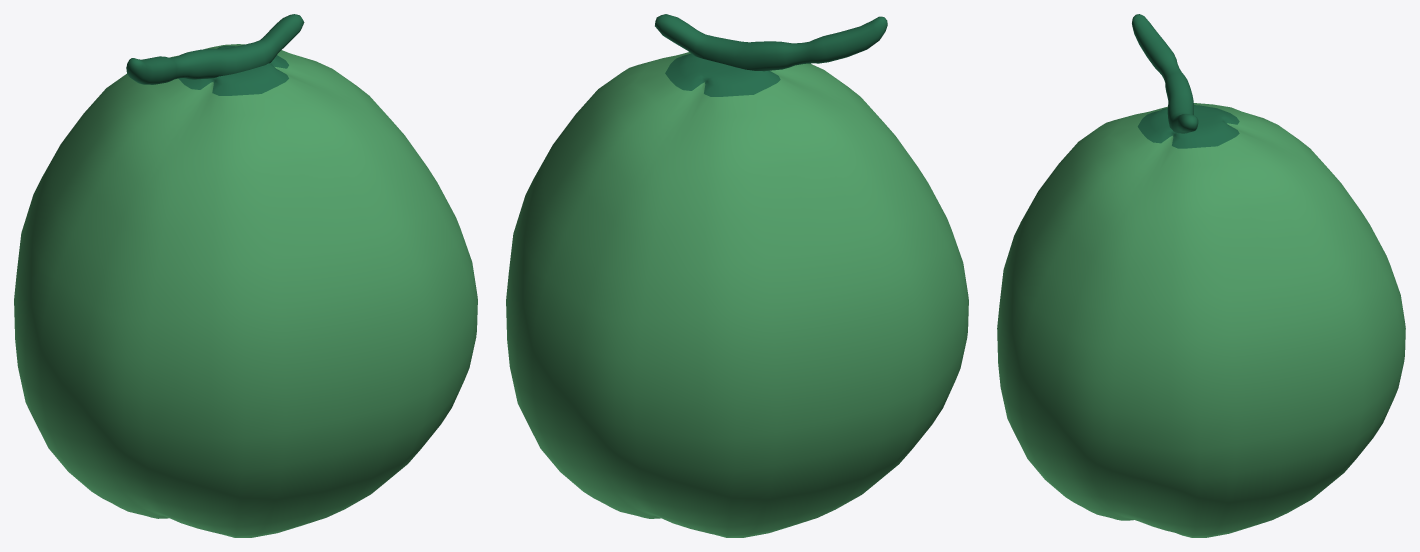
File: Coconut_01.dae
The picture shows the model from 3 angles, left to right: view 1: azimuth 30°, elevation 25°; view 2: azimuth 150°, elevation 25°; view 3: azimuth 270°, elevation 25°; orthographic projection. The views are drawn at different scales.
Visible parts, largest first — view 1: Coconut_01_LOD0; view 2: Coconut_01_LOD0; view 3: Coconut_01_LOD0.
Part boxes in pixels (x1,y1,x2,y2): Coconut_01_LOD0: (14,14,477,537); Coconut_01_LOD0: (506,14,968,537); Coconut_01_LOD0: (997,14,1405,537).
Size of what is drawn, in the model's own units: 5.27 by 5.19 by 6.2.
